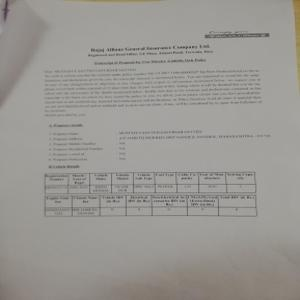table: (44, 171, 257, 217)
text: (45, 65, 265, 116), (45, 121, 272, 170), (86, 44, 214, 64)
